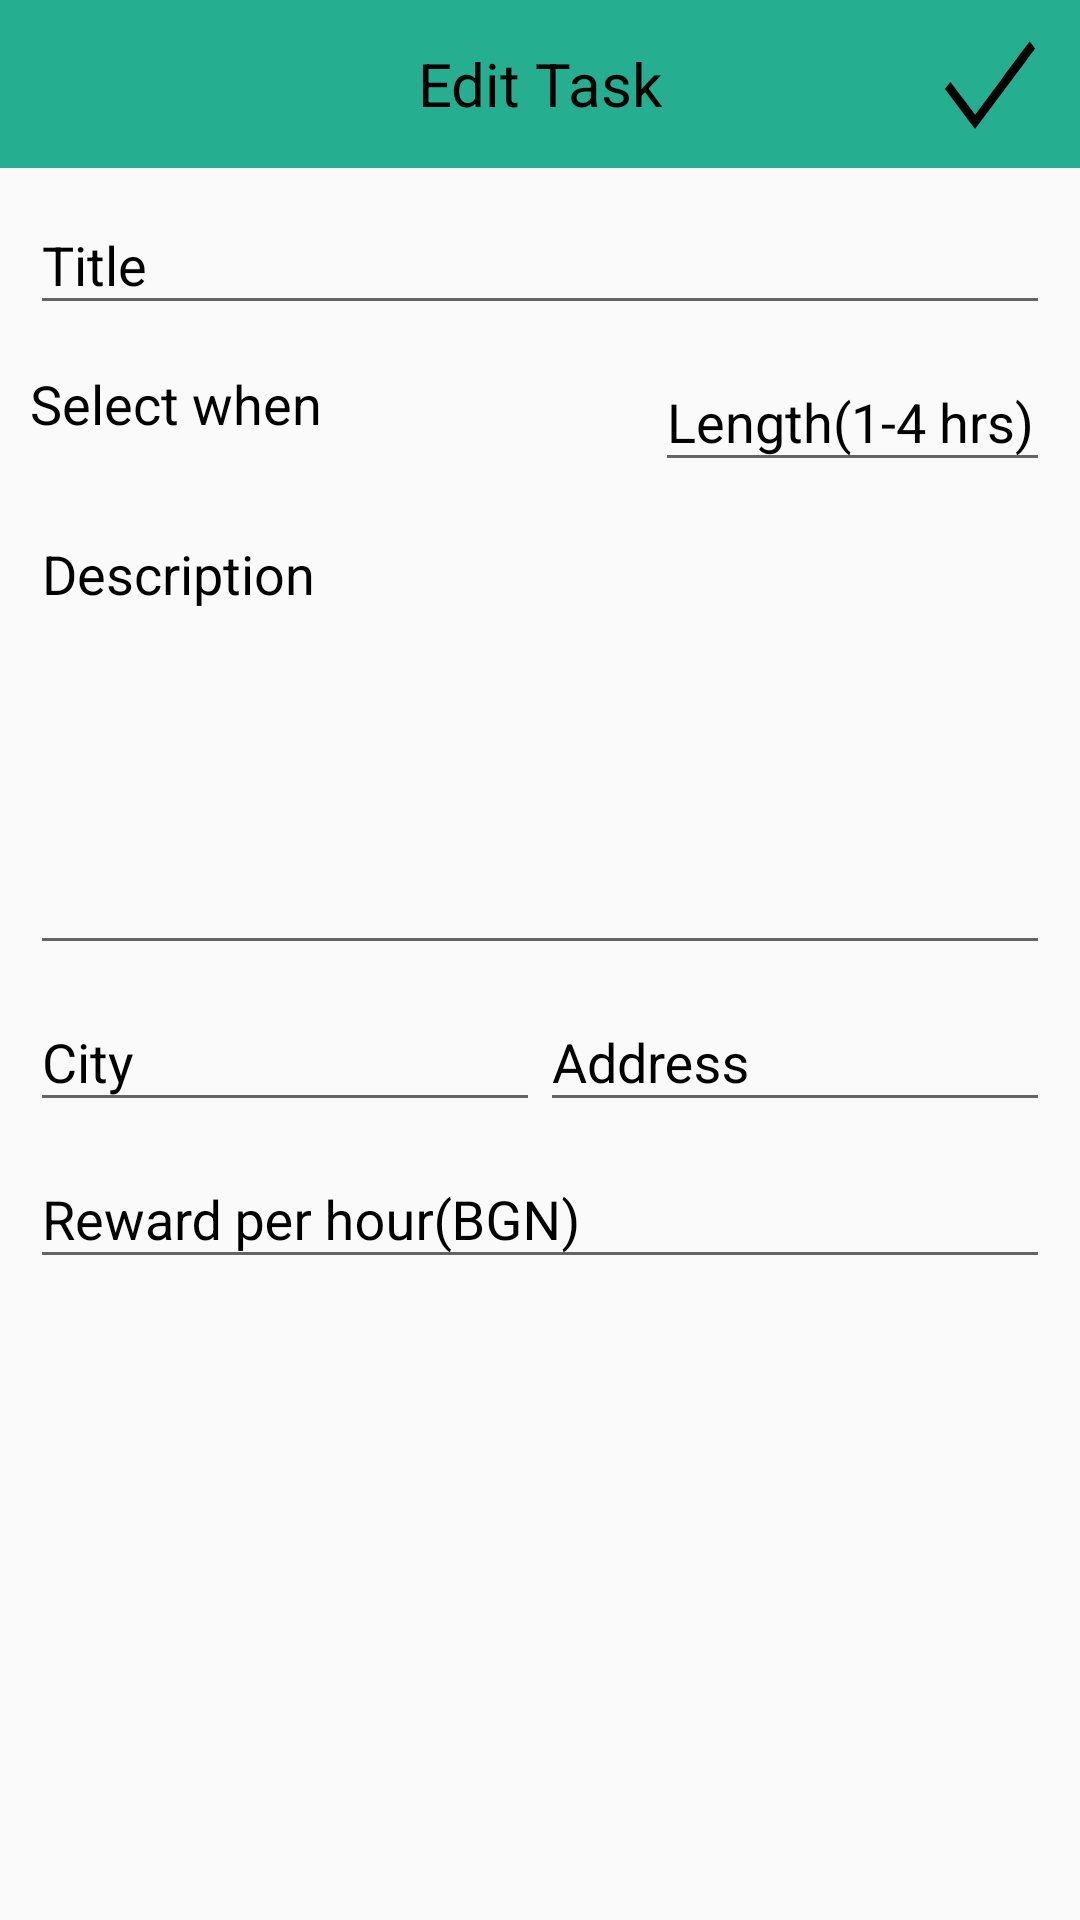

Where to tap for icons on this 1080px x 1920px app screen, as [x,y]:
checkmark: [990,85]
